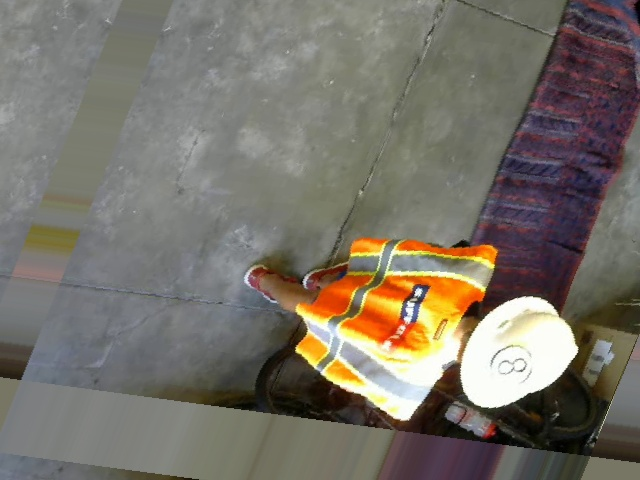eight: (480, 342, 542, 392)
